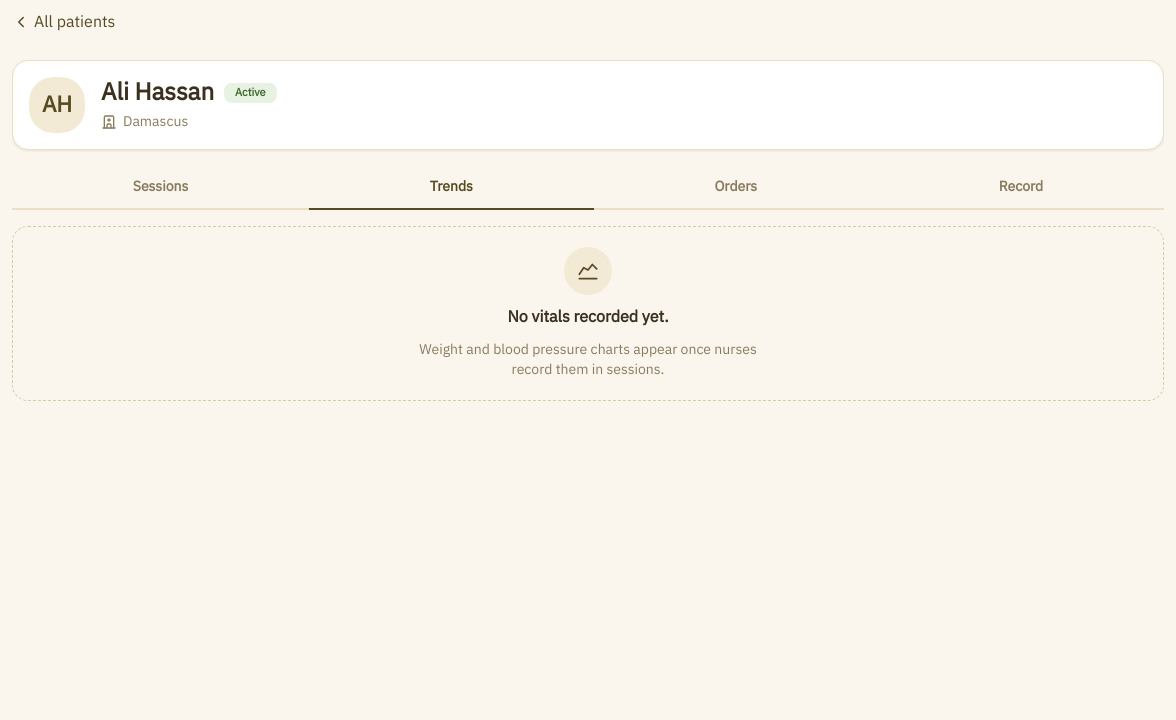
Scenario: PatientPage as a doctor › shows the record and orders but no edit, booking or discharge buttons
Expected: the heading "Ali Hassan" is shown, [101,77,214,108]
Click the tab "Orders": (736, 188) [594,166,878,210]
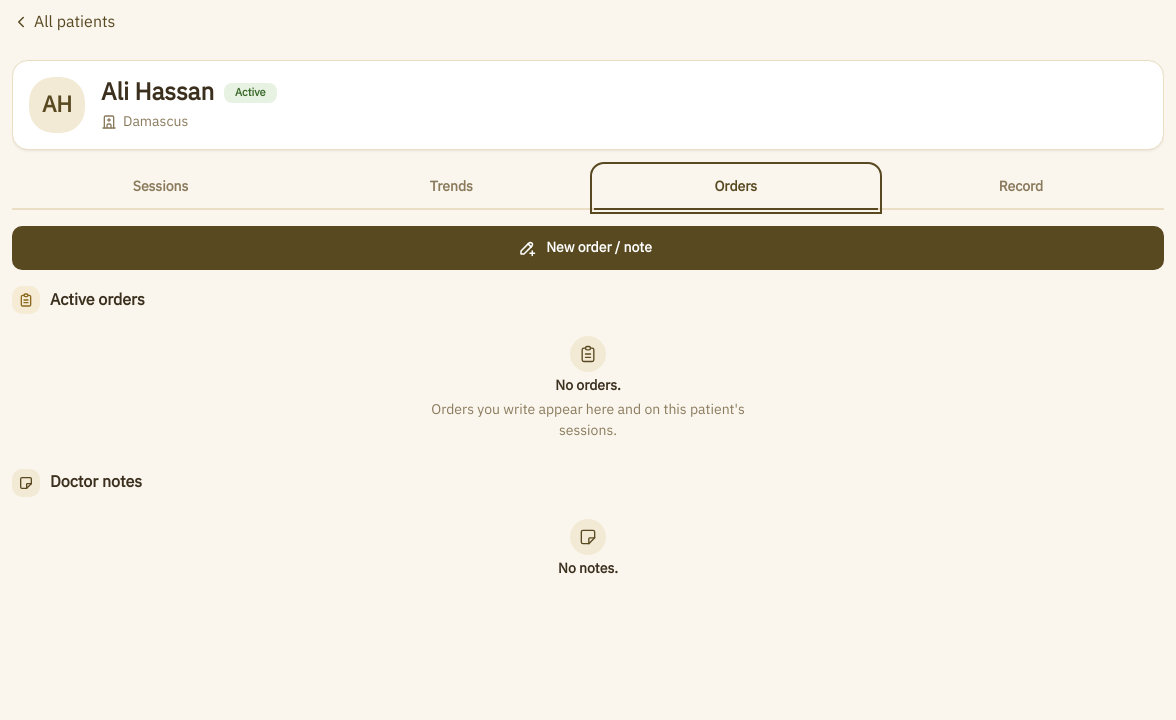
Result: the text "No orders." is shown at [555,376,621,396]
Result: the button "New order / note" is shown at [12,226,1164,270]
